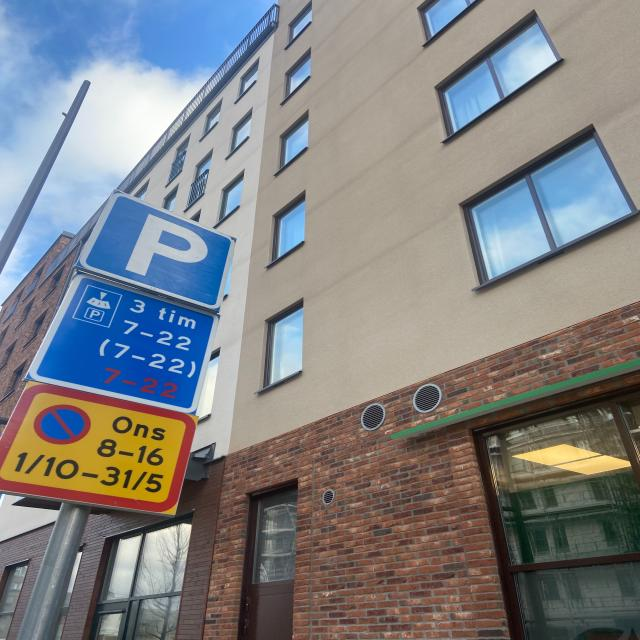psign: (84, 192, 235, 310)
